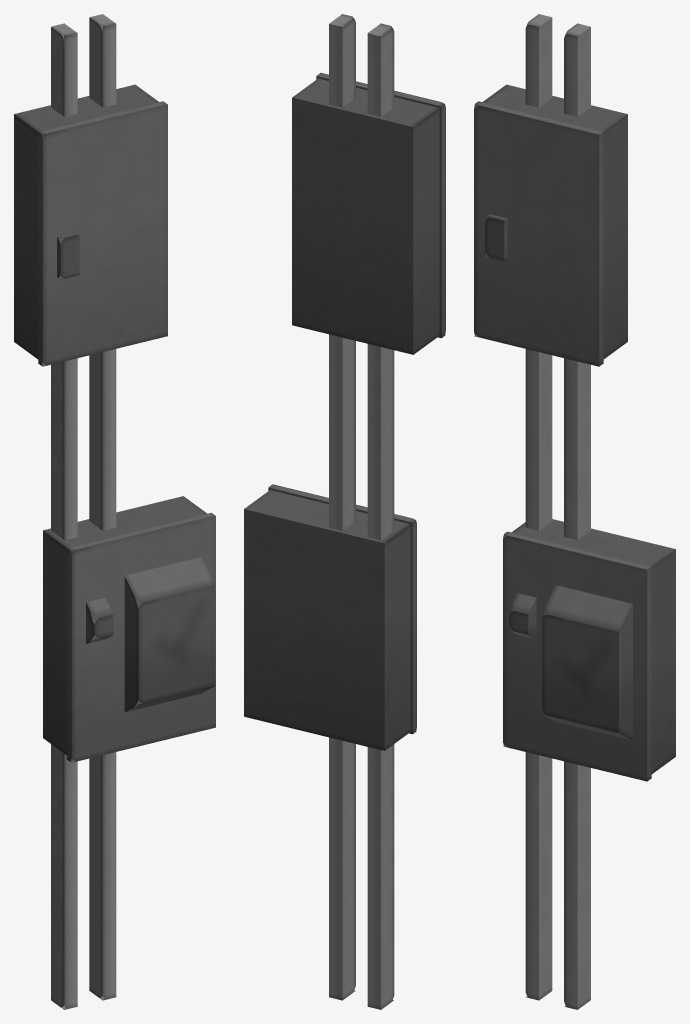
File: electricbox2.obj
The picture shows the model from 3 angles, left to right: view 1: azimuth 30°, elevation 25°; view 2: azimuth 150°, elevation 25°; view 3: azimuth 330°, elevation 25°; orthographic projection.
Parts seen in each view (by area): view 1: baseModel5, baseModel8, baseModel3, baseModel2, baseModel1, baseModel4, baseModel0, baseModel6, baseModel7; view 2: baseModel0, baseModel4, baseModel2, baseModel3, baseModel5, baseModel8; view 3: baseModel5, baseModel8, baseModel2, baseModel3, baseModel1, baseModel0, baseModel4, baseModel6, baseModel7.
Boxes of the visible parts, x1=… form: baseModel5: x1=38, y1=101, x2=167, y2=366; baseModel8: x1=67, y1=512, x2=215, y2=762; baseModel3: x1=89, y1=14, x2=116, y2=1000; baseModel2: x1=51, y1=23, x2=77, y2=1009; baseModel1: x1=124, y1=557, x2=215, y2=712; baseModel4: x1=14, y1=84, x2=158, y2=362; baseModel0: x1=43, y1=496, x2=206, y2=758; baseModel6: x1=86, y1=598, x2=113, y2=643; baseModel7: x1=57, y1=232, x2=79, y2=279; baseModel0: x1=244, y1=490, x2=410, y2=750; baseModel4: x1=292, y1=78, x2=439, y2=354; baseModel2: x1=367, y1=23, x2=394, y2=1009; baseModel3: x1=329, y1=14, x2=355, y2=1000; baseModel5: x1=316, y1=73, x2=445, y2=338; baseModel8: x1=268, y1=484, x2=416, y2=734; baseModel5: x1=474, y1=101, x2=603, y2=366; baseModel8: x1=503, y1=531, x2=651, y2=781; baseModel2: x1=525, y1=14, x2=552, y2=1000; baseModel3: x1=564, y1=23, x2=590, y2=1009; baseModel1: x1=542, y1=585, x2=632, y2=740; baseModel0: x1=511, y1=519, x2=675, y2=773; baseModel4: x1=482, y1=84, x2=627, y2=358; baseModel6: x1=509, y1=593, x2=536, y2=639; baseModel7: x1=485, y1=214, x2=507, y2=260.
Size of the model in its own units: 9 by 48.3 by 4.
